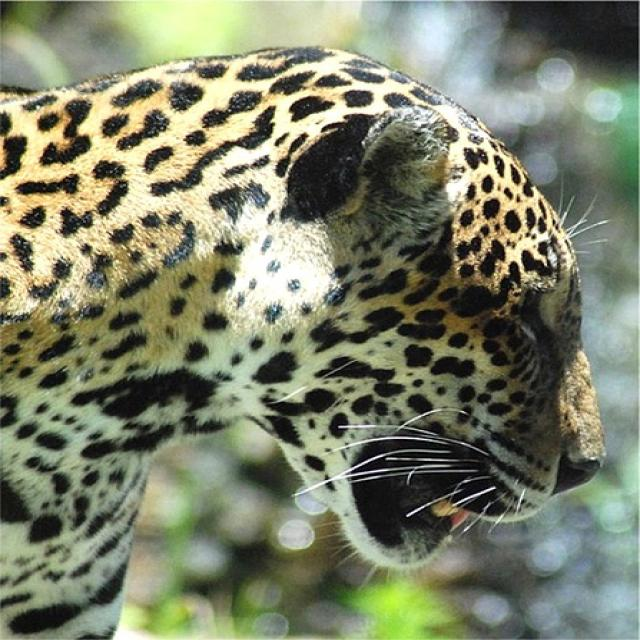Leopard: (0, 41, 604, 636)
